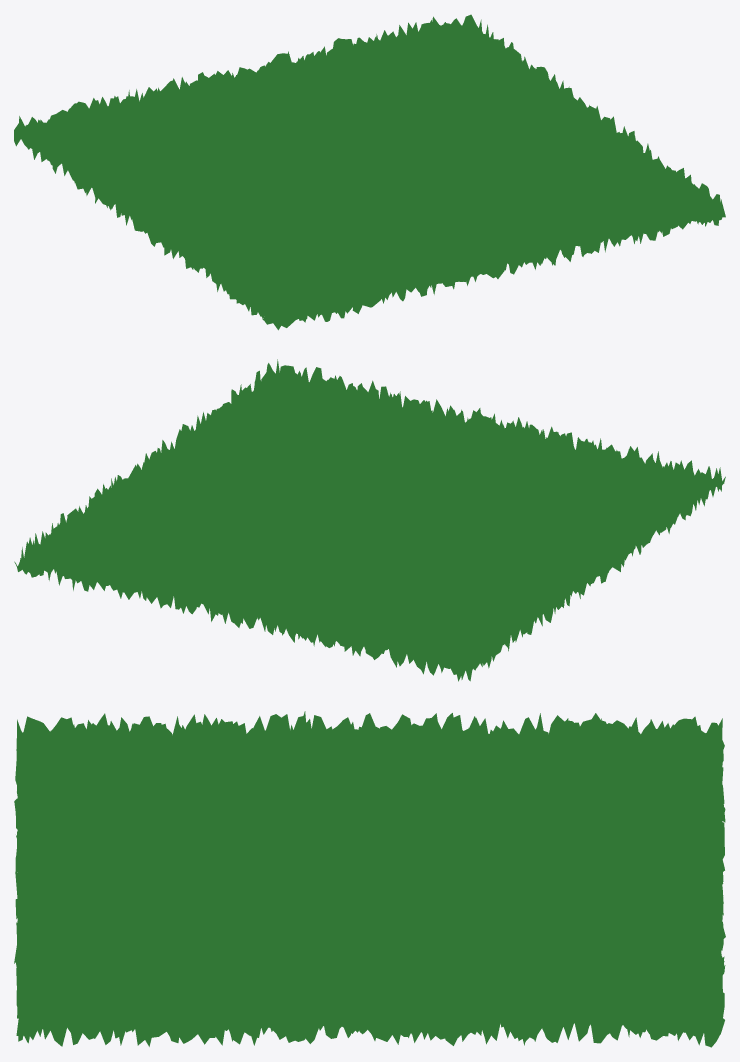
3 views of the same model, one above another, from view 1: azimuth 30°, elevation 25°; view 2: azimuth 150°, elevation 25°; view 3: azimuth 270°, elevation 25° (orthographic). The views are drawn at different scales.
Parts seen in each view (by area): view 1: Plane; view 2: Plane; view 3: Plane.
Boxes of the visible parts, <box> form: Plane: <box>14,14,725,330</box>; Plane: <box>14,359,725,681</box>; Plane: <box>14,711,725,1047</box>.
Bounding box in the file's own units: 135 × 8.95 × 135.
